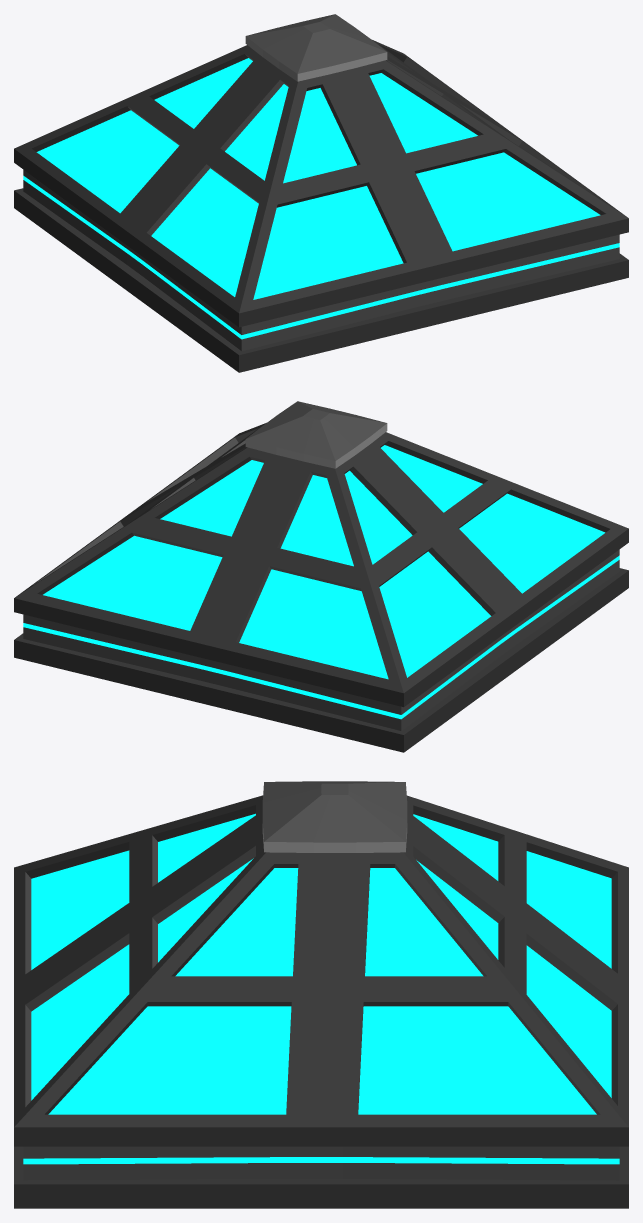
Rendered from SM_Prop_D.fbx.
The picture shows the model from 3 angles, top to bottom: view 1: azimuth 30°, elevation 25°; view 2: azimuth 150°, elevation 25°; view 3: azimuth 270°, elevation 25°; orthographic projection. The views are drawn at different scales.
Parts seen in each view (by area): view 1: SM_Prop_D; view 2: SM_Prop_D; view 3: SM_Prop_D.
Part boxes in pixels (x1,y1,x2,y2): SM_Prop_D: [14, 14, 628, 372]; SM_Prop_D: [14, 401, 628, 752]; SM_Prop_D: [14, 781, 628, 1208].
Bounding box in the file's own units: 91.56 × 47.53 × 91.56.
